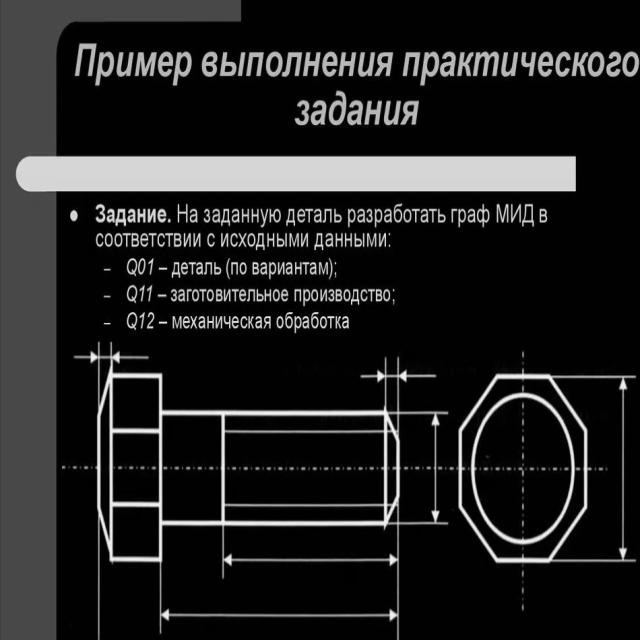marking_line: (225, 552, 397, 570), (160, 608, 398, 621), (618, 379, 629, 557), (431, 414, 440, 521), (361, 371, 438, 381), (112, 350, 149, 366), (71, 351, 96, 364)
